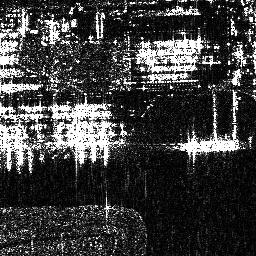ship: (182, 139, 247, 153)
